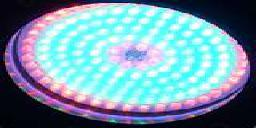LED: (6, 2, 255, 122)
